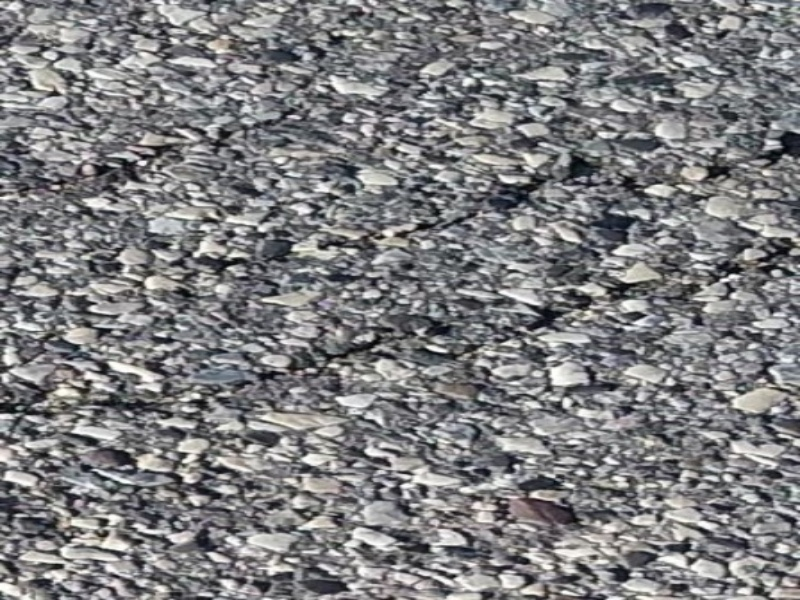crack: (33, 283, 670, 429), (75, 10, 374, 177)
